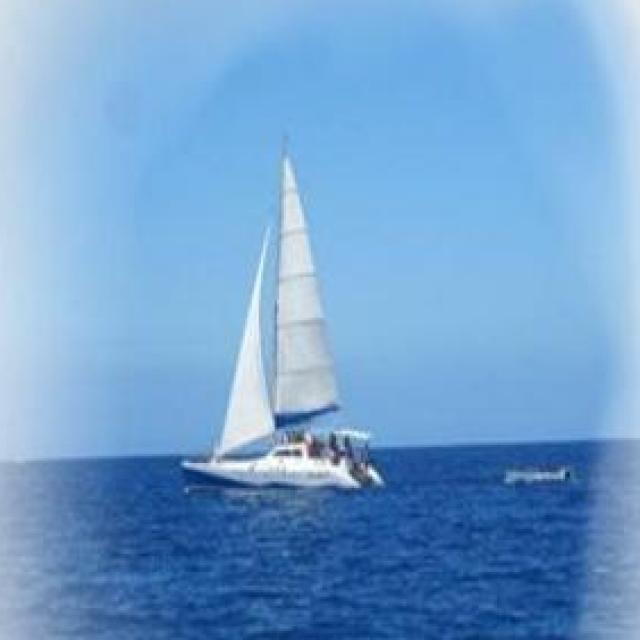sailboat: (182, 143, 395, 492)
